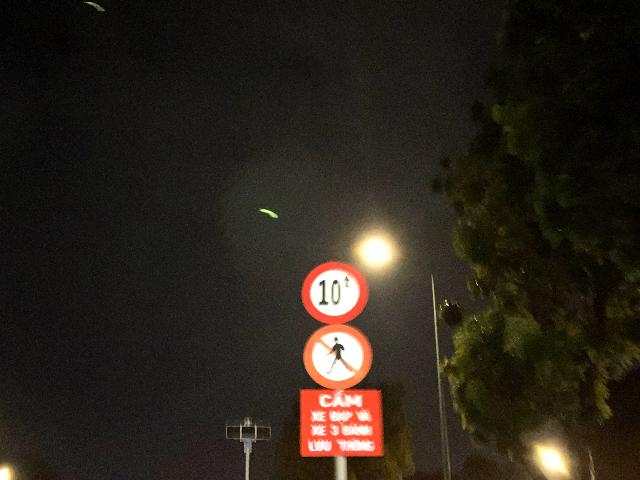cam-nguoi-di-bo: (303, 324, 373, 389)
han-che-trong-luong-xe: (302, 261, 368, 324)
